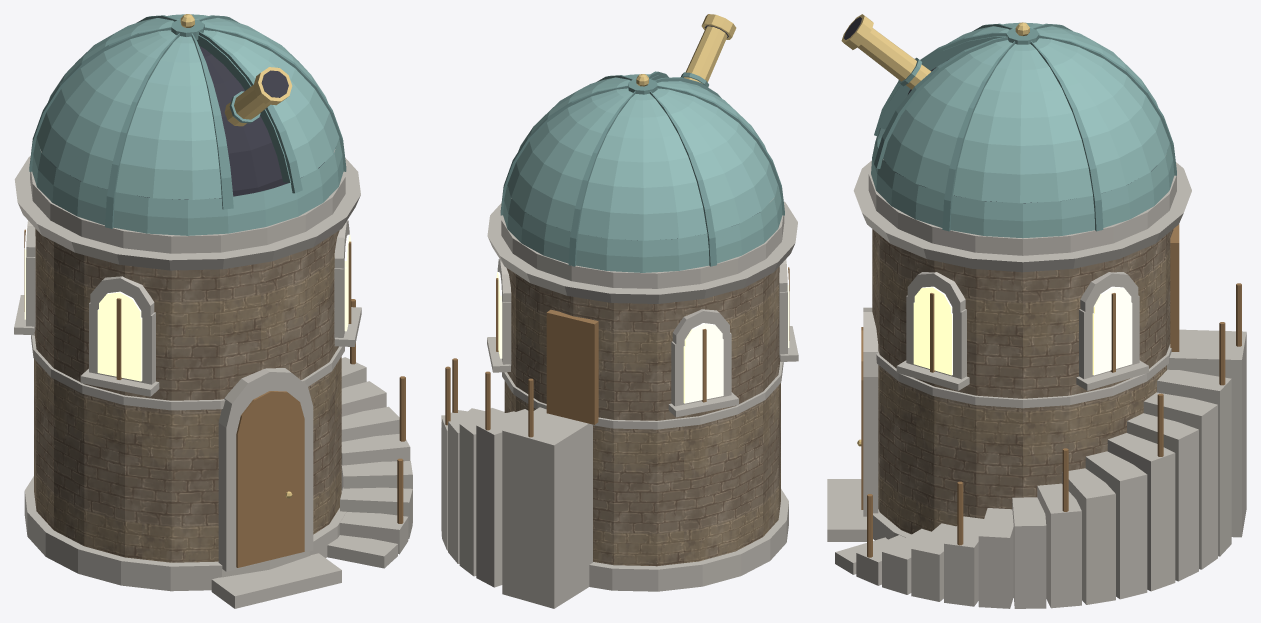
The model's file is observatory.glb.
The picture shows the model from 3 angles, left to right: view 1: azimuth 30°, elevation 25°; view 2: azimuth 150°, elevation 25°; view 3: azimuth 270°, elevation 25°; orthographic projection. The views are drawn at different scales.
Parts seen in each view (by area): view 1: Observatory; view 2: Observatory; view 3: Observatory.
Boxes of the visible parts, x1,y1,x2,y2 form: Observatory: [14, 14, 412, 608]; Observatory: [441, 14, 798, 608]; Observatory: [827, 14, 1246, 608].
Bounding box in the file's own units: 5.16 × 7.34 × 5.57.
8 materials, 1 textured.
